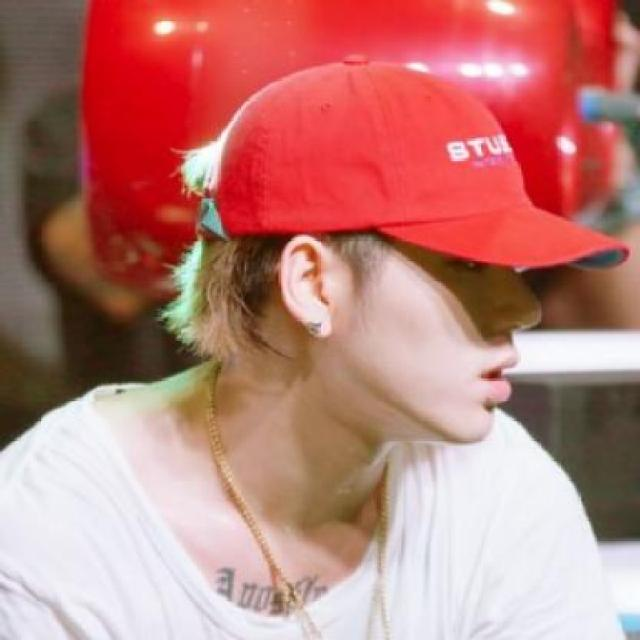hat: (198, 50, 631, 272)
